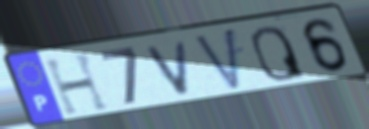6: (300, 16, 351, 74)
7: (96, 44, 142, 108)
H: (41, 50, 114, 118)
Q: (248, 24, 309, 83)
V: (191, 25, 243, 94), (143, 38, 194, 98)
